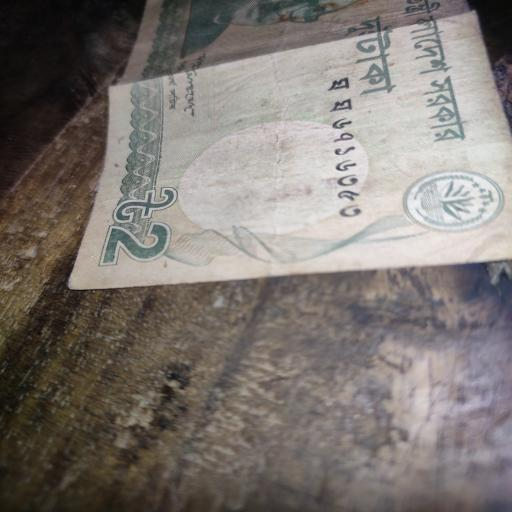2taka: (70, 0, 511, 288)
